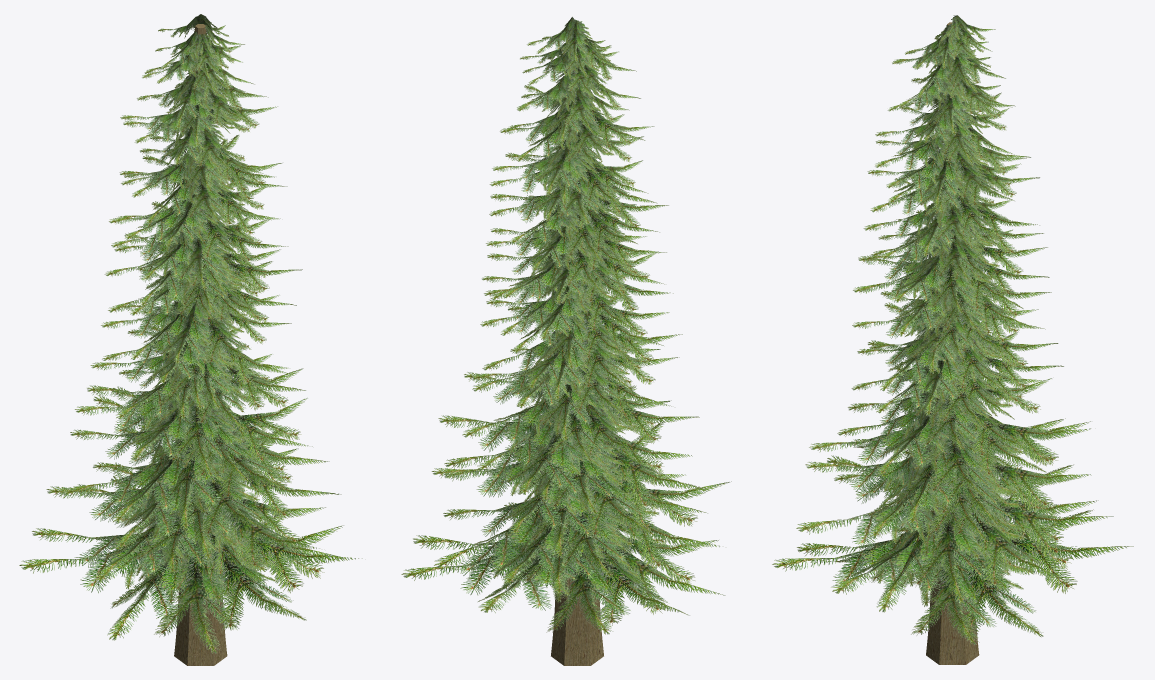
Rendered from BetterPineTree.fbx.
3 renders of one model, left to right at view 1: azimuth 30°, elevation 25°; view 2: azimuth 150°, elevation 25°; view 3: azimuth 270°, elevation 25°, orthographic.
Visible parts, largest first — view 1: twigs.001, twigs.007, Cylinder, twigs.004, twigs.003, twigs.002, twigs.019, twigs.016, twigs.043, twigs.010, twigs.034, twigs.028 (+70 smaller); view 2: Cylinder, twigs.008, twigs.011, twigs.002, twigs.005, twigs.020, twigs.032, twigs.029, twigs.031, twigs.009, twigs.023, twigs (+76 smaller); view 3: twigs.015, twigs.006, twigs, Cylinder, twigs.033, twigs.005, twigs.009, twigs.010, twigs.014, twigs.012, twigs.003, twigs.001 (+67 smaller).
Part boxes in pixels (<box>): twigs.001: <box>174,527,306,630</box>; twigs.007: <box>145,541,241,653</box>; Cylinder: <box>174,24,227,665</box>; twigs.004: <box>107,539,220,640</box>; twigs.003: <box>212,528,355,593</box>; twigs.002: <box>19,541,185,593</box>; twigs.019: <box>178,457,263,536</box>; twigs.016: <box>133,501,232,574</box>; twigs.043: <box>160,388,234,477</box>; twigs.010: <box>192,501,316,569</box>; twigs.034: <box>155,437,240,530</box>; twigs.028: <box>181,426,288,499</box>; Cylinder: <box>551,69,603,665</box>; twigs.008: <box>532,538,640,634</box>; twigs.011: <box>536,492,632,578</box>; twigs.002: <box>552,539,688,625</box>; twigs.005: <box>478,546,600,613</box>; twigs.020: <box>577,460,656,537</box>; twigs.032: <box>505,423,600,494</box>; twigs.029: <box>542,436,624,515</box>; twigs.031: <box>585,435,706,510</box>; twigs.009: <box>434,503,553,570</box>; twigs.023: <box>501,471,594,534</box>; twigs: <box>401,539,538,595</box>; twigs.015: <box>904,503,995,604</box>; twigs.006: <box>901,551,1007,644</box>; twigs: <box>919,539,1043,638</box>; Cylinder: <box>926,22,979,664</box>; twigs.033: <box>910,428,995,497</box>; twigs.005: <box>975,531,1132,593</box>; twigs.009: <box>933,508,1069,587</box>; twigs.010: <box>796,500,942,548</box>; twigs.014: <box>979,497,1112,558</box>; twigs.012: <box>869,511,974,612</box>; twigs.003: <box>831,526,957,595</box>; twigs.001: <box>772,529,921,588</box>.
Bounding box in the file's own units: 1343 × 2645 × 1396.
2 materials, 2 textured.
